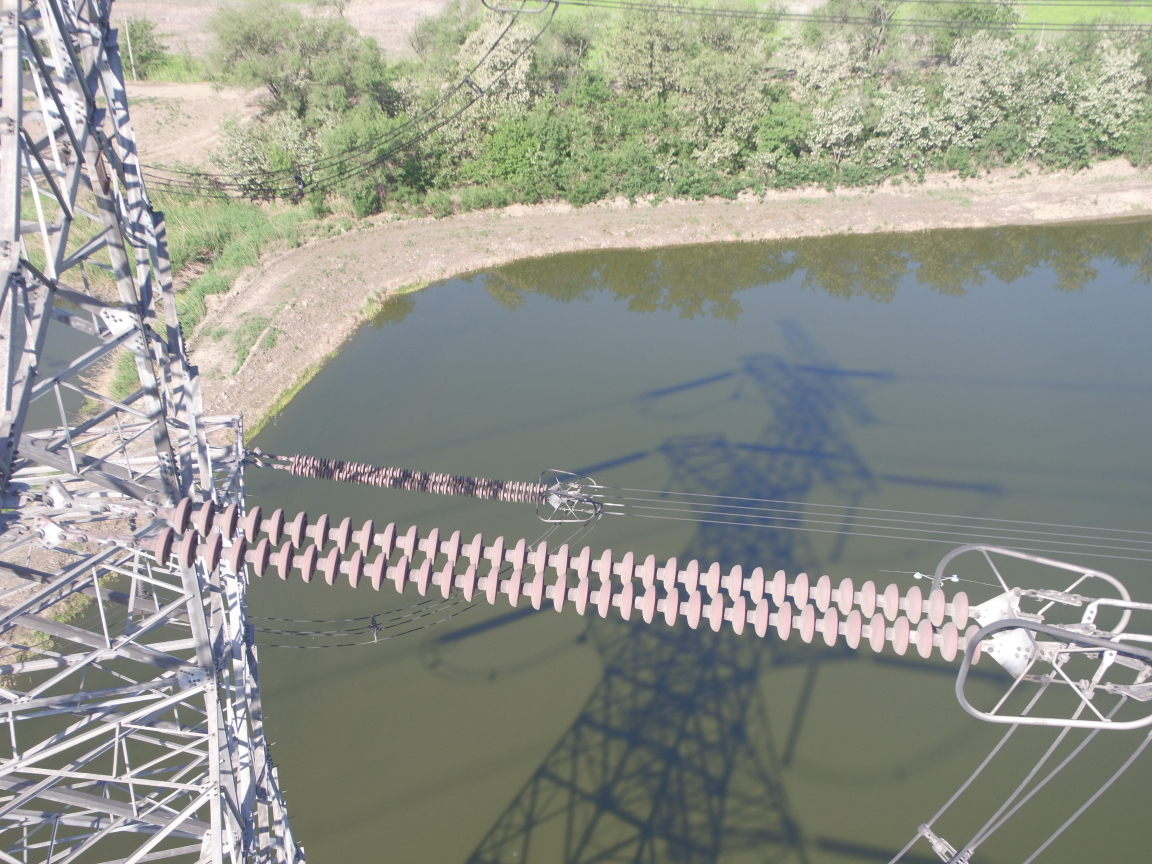insulator: (68, 491, 1011, 671)
